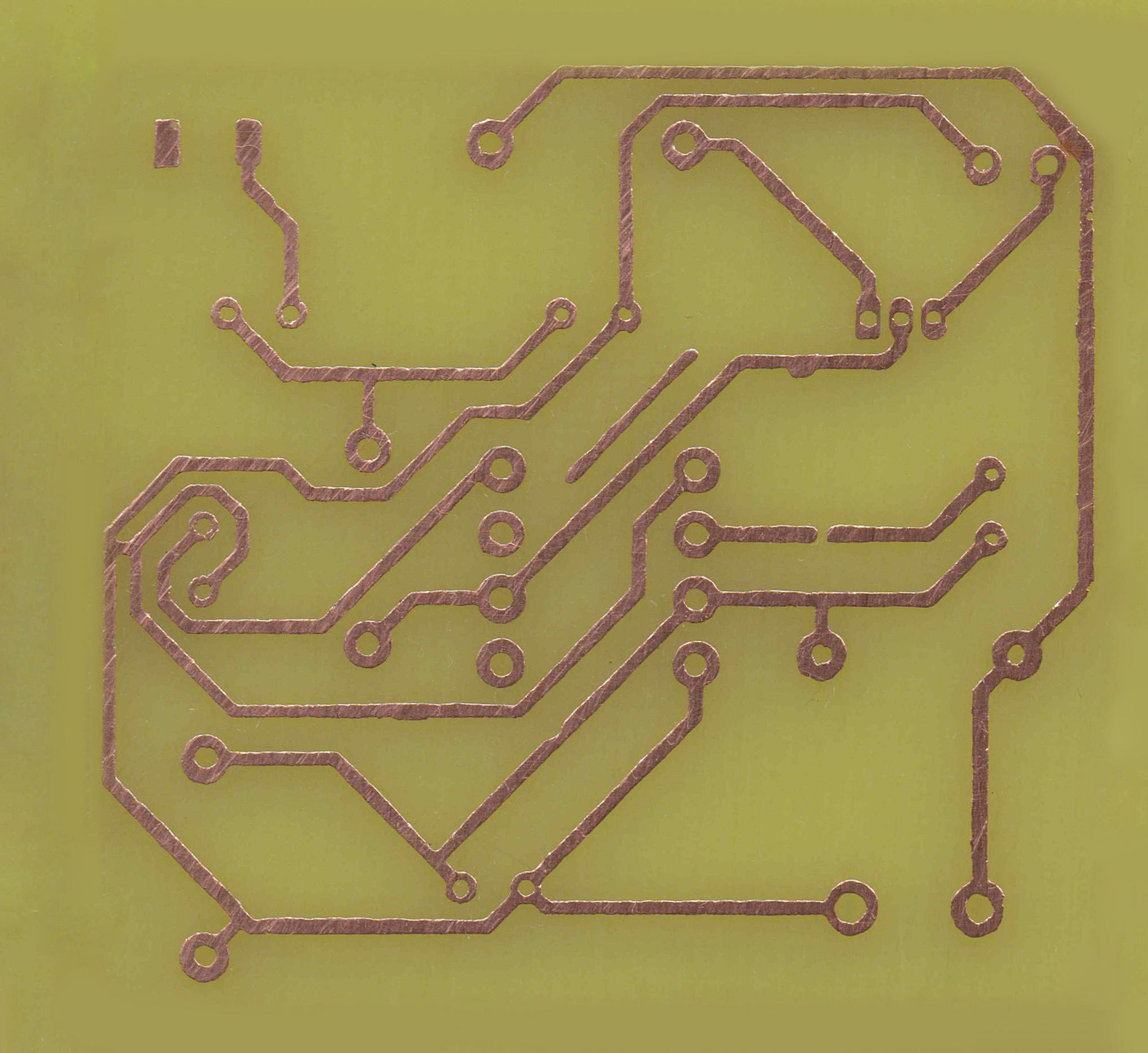mouse_bite: (1075, 199, 1099, 232)
open_circuit: (807, 517, 838, 550)
short: (95, 529, 149, 561)
spur: (784, 350, 820, 381)
spurious_copper: (561, 343, 701, 487)
